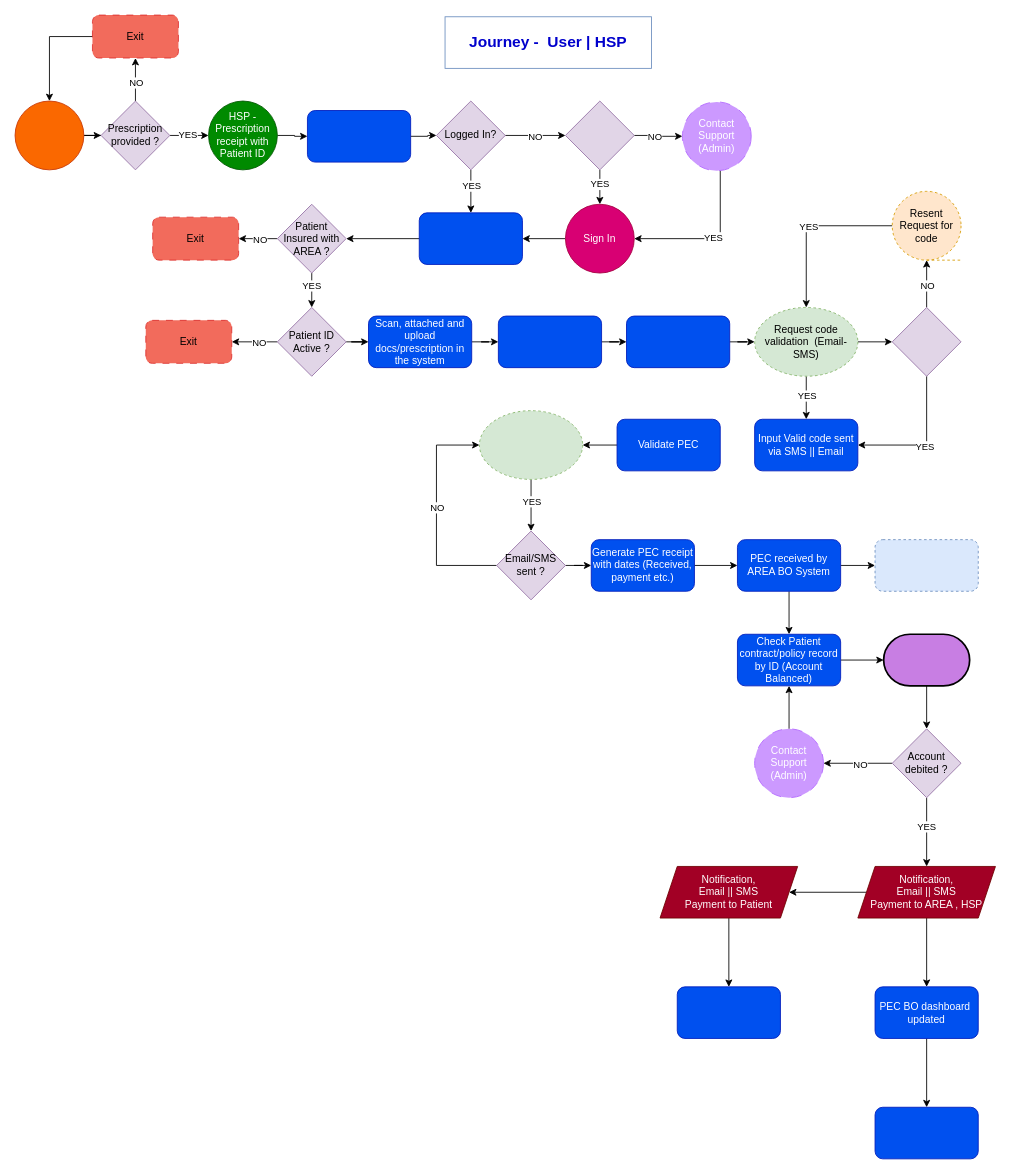
The diagram is 1011 pixels wide and 1174 high, and some of its shapes have lost their labels. Here are the shapes that lost their labels. From the top down, the centre of each, then its label:
At point (49, 135): "Patient - Prescription Receipt from Dr.".
At point (359, 136): "HSP - Access the Application".
At point (599, 135): "Existing Account ?".
At point (470, 238): "Verify Patient Details by ID".
At point (550, 341): "YES || NO drug listing in sequence, Qty and dosage in the system".
At point (678, 341): "Drug listing, cost and Patient policy/contact e.g. 80% (Automatic Calculation)".
At point (926, 341): "Email-SMS received ?".
At point (531, 444): "Notification (Email -SMS) sent to AREA and HSP".
At point (926, 565): "PEC-AREA Checkbox Acknowledge reception of Hard copy documents".
At point (926, 659): "Automatic account debit of x-XAF. Patient Account".
At point (728, 1012): "User PEC dashboard updated".
At point (926, 1132): "HSP dashboard updated".
